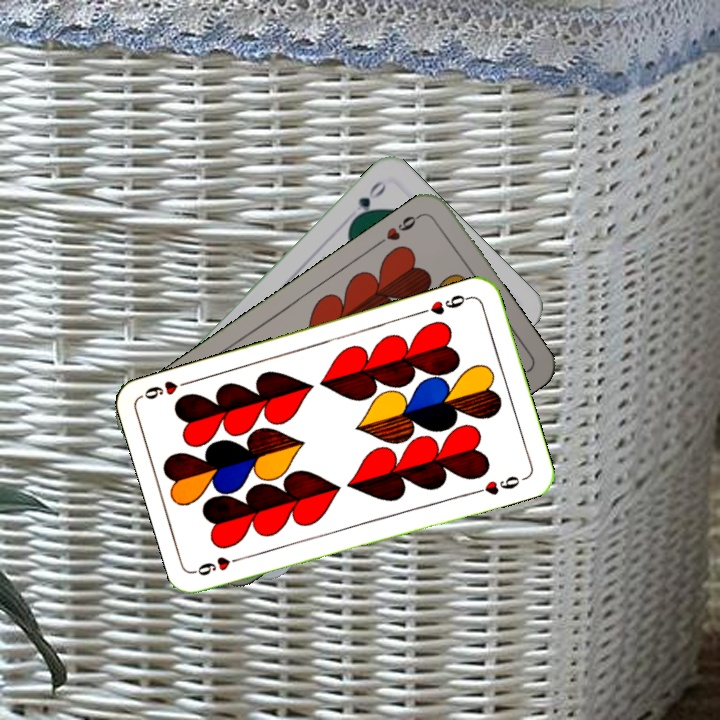GO: (347, 176, 391, 226)
H9: (373, 209, 425, 249), (416, 290, 474, 318), (192, 551, 250, 579)
